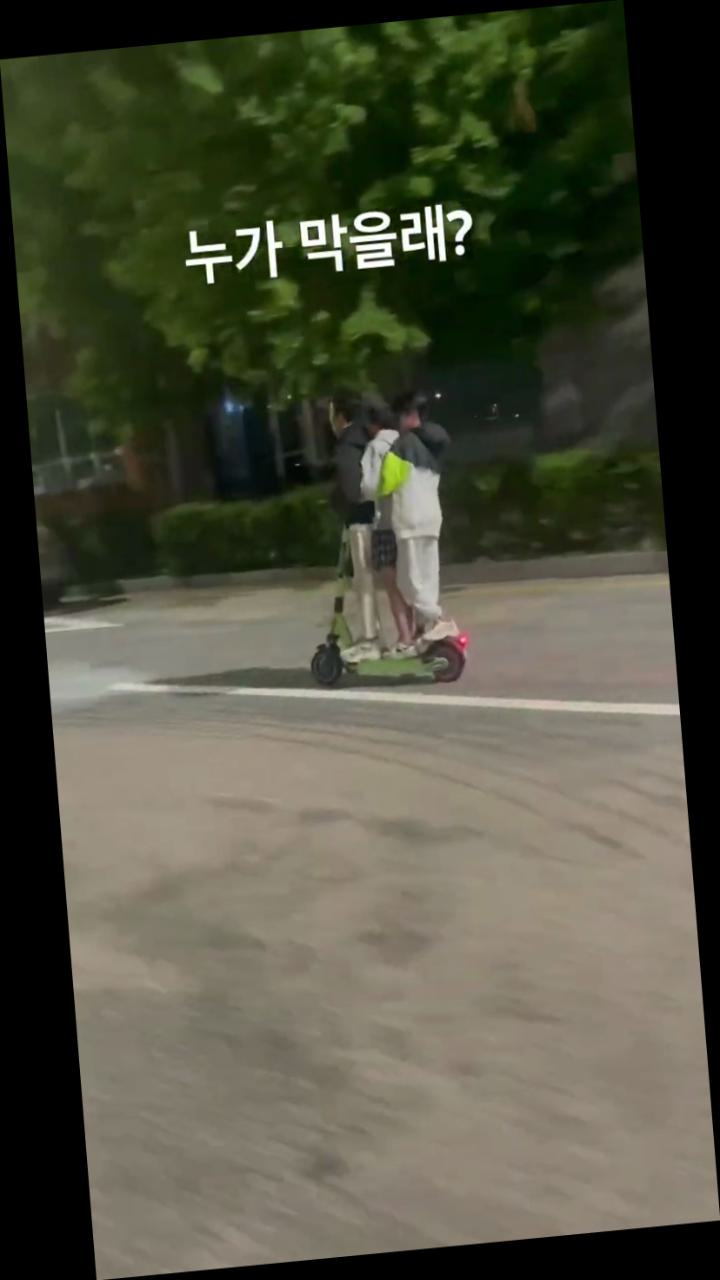multiple: (282, 371, 476, 700)
